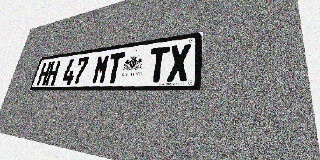4: (61, 58, 78, 85)
7: (72, 57, 89, 85)
H: (45, 60, 61, 85), (36, 62, 52, 86)
M: (91, 54, 111, 84)
T: (147, 46, 170, 82), (105, 52, 125, 84)
X: (167, 43, 191, 82)
